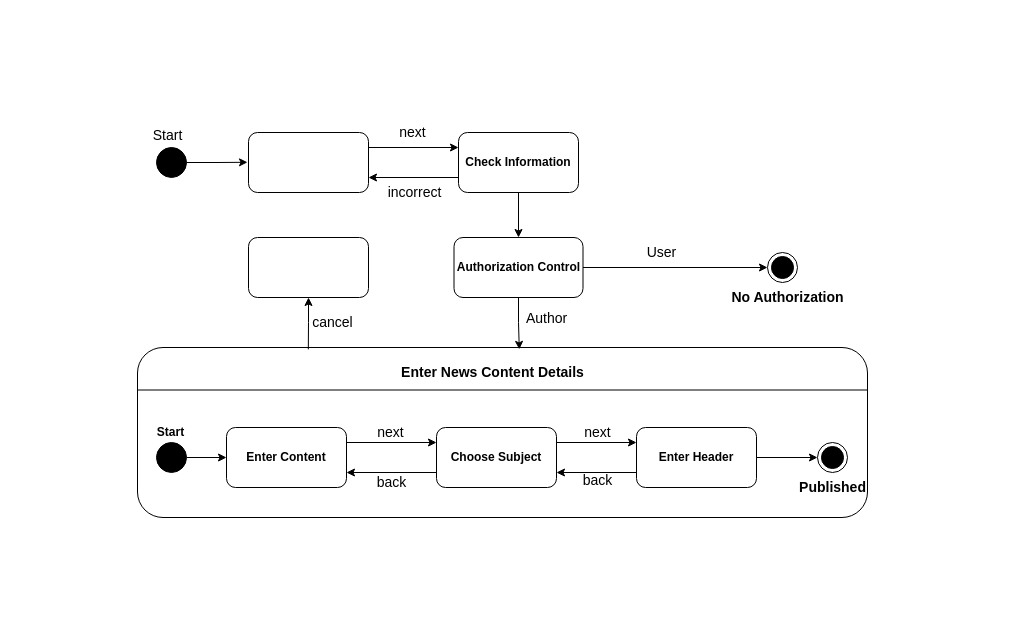
Some shapes in this 1014 by 634 pixel diagram are drawn without their labels. The centre of each missing label's shape, as x and y in pixels:
"Enter username password" belongs at (308,162).
"Show News" belongs at (308,267).
